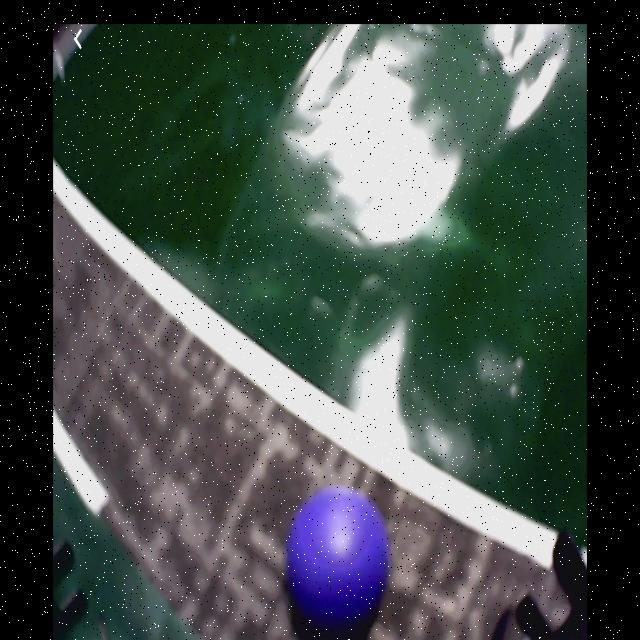ball: (291, 488, 388, 640)
